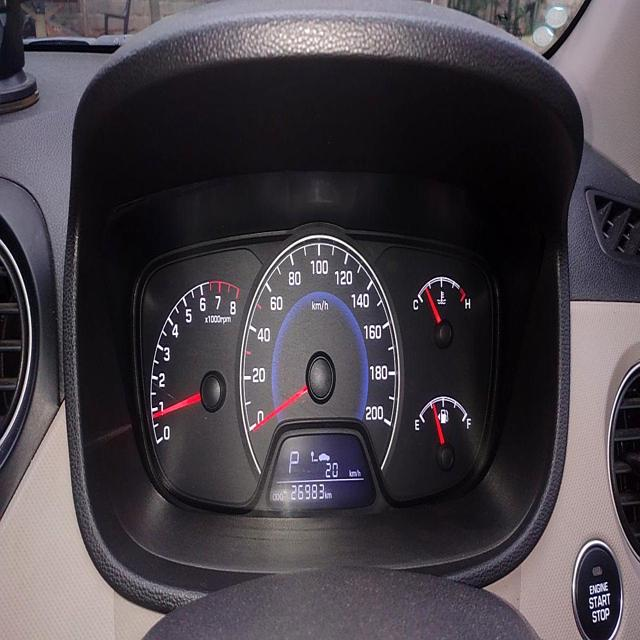odometer: (287, 479, 327, 504)
